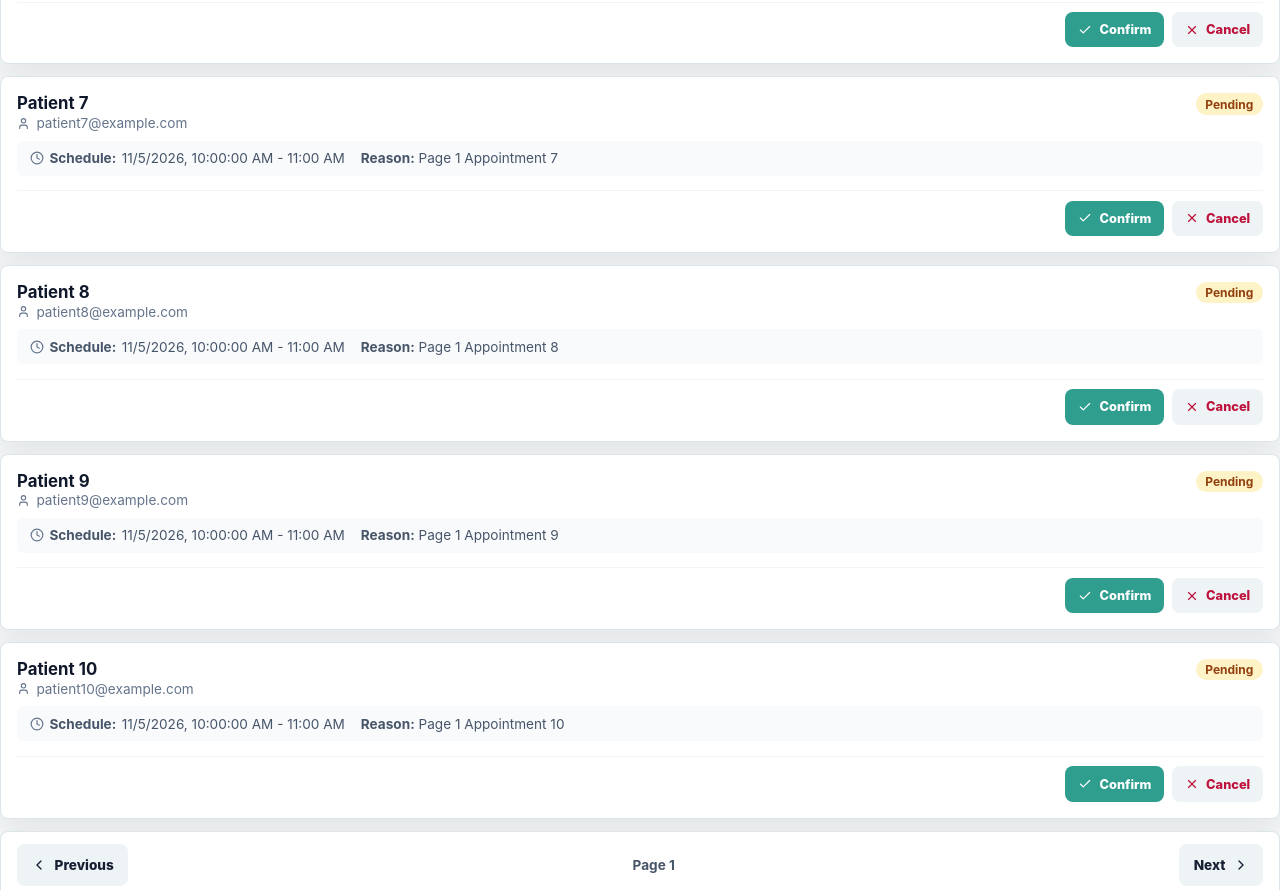
Test: Doctor Dashboard: Real Component Workflow Tests › navigates doctor appointments to page 2, cancels final item via rendered form, returns DRF 404 Invalid page, and recovers to page 1
The image size is (1280, 890).
(page scrolled)
Expected: the text "Page 1" is shown, 633,857 -> 675,873
Step 1. Click the button "Next" → (1221, 865), box 1179,844 -> 1263,886
(page scrolled)
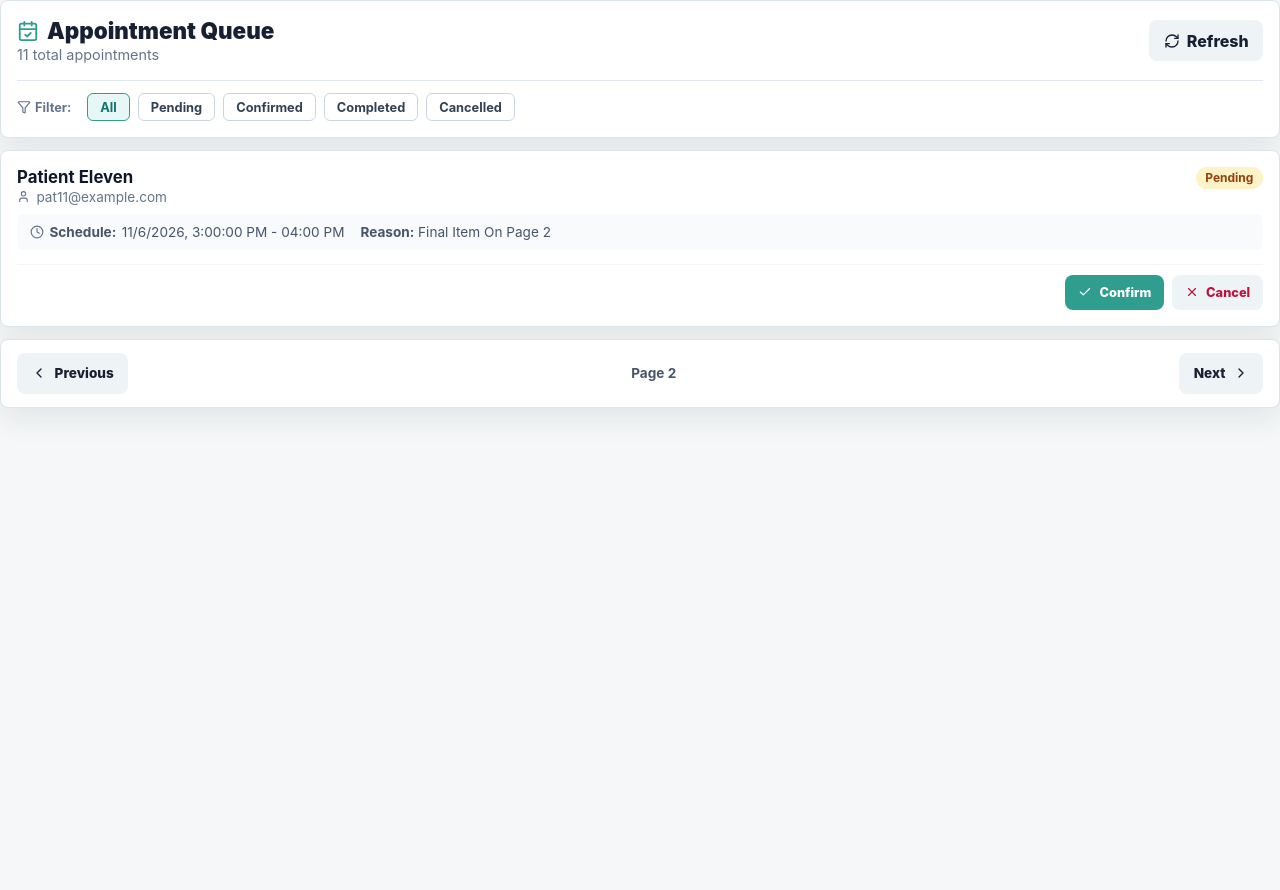
Expected: the text "Final Item On Page 2" is shown, 418,224 -> 551,240
Expected: the text "Page 2" is shown, 631,365 -> 676,381
# Remove final item through rendered Cancel form submission
Step 2. Click the button "Cancel" → (1218, 292), box 1172,274 -> 1263,310
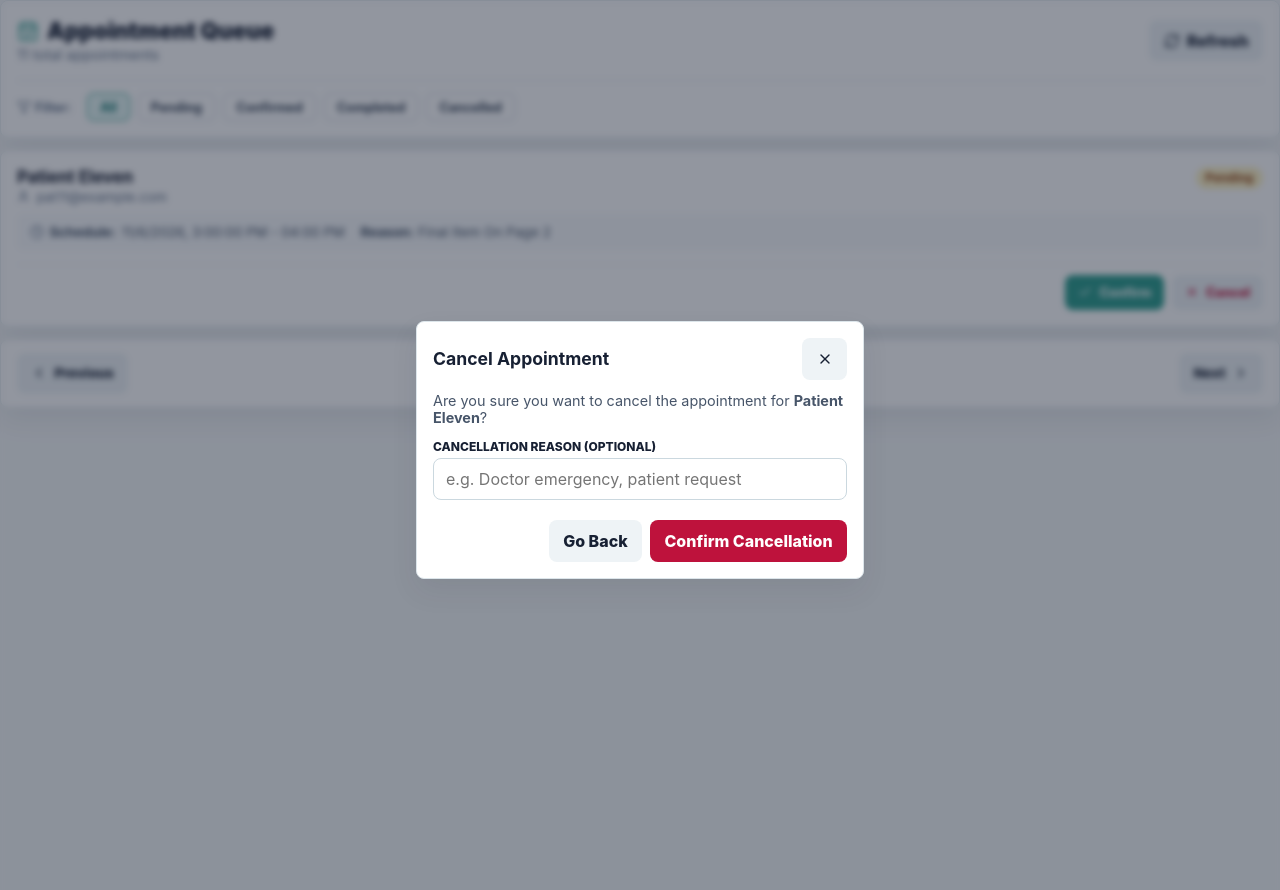
Expected: the text "Cancel Appointment" is shown, 433,348 -> 609,369
Step 3. Type "Cancelling final item on page 2" into the field with placeholder "e.g. Doctor emergency, patient request" → (640, 479), box 433,458 -> 847,500
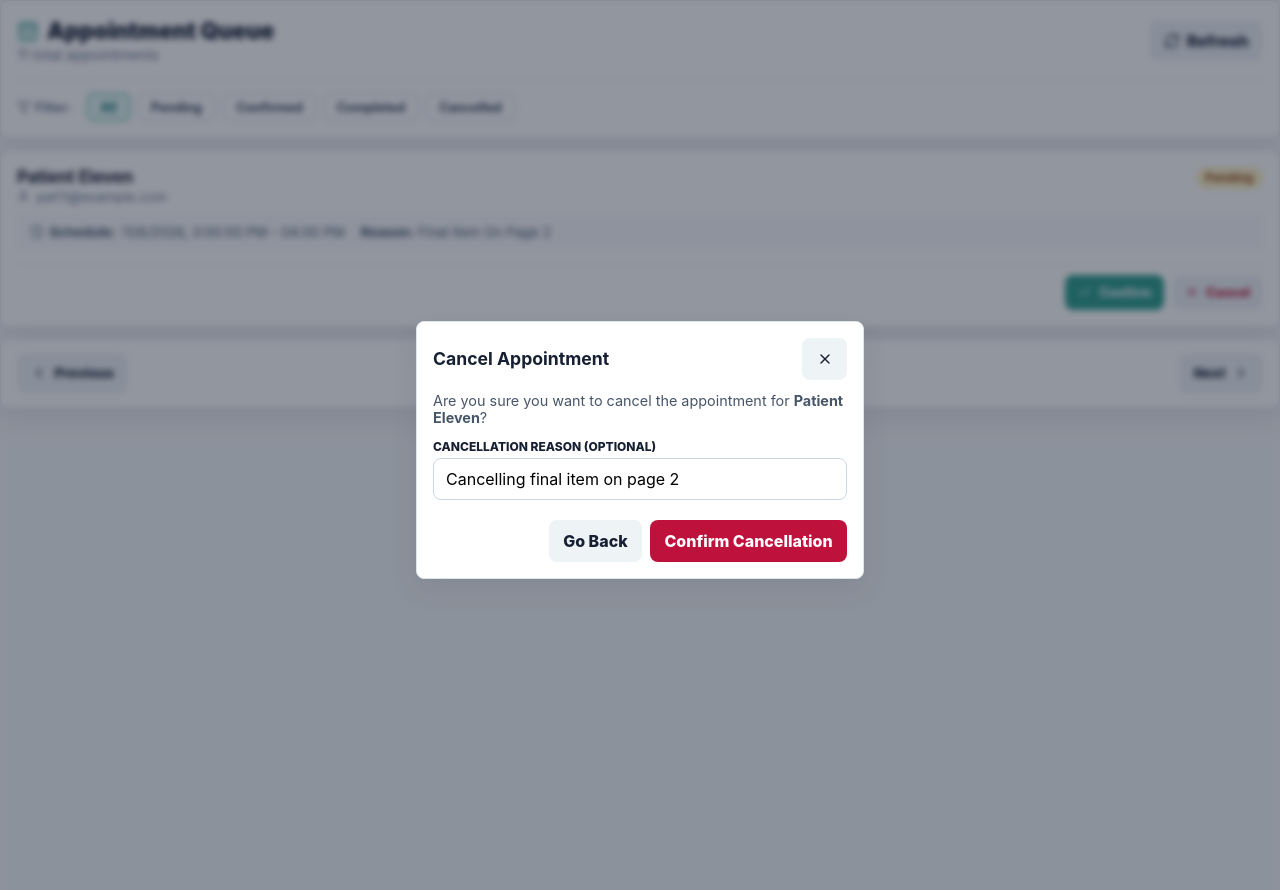
Step 4. Click the button "Confirm Cancellation" → (749, 541), box 650,520 -> 847,562
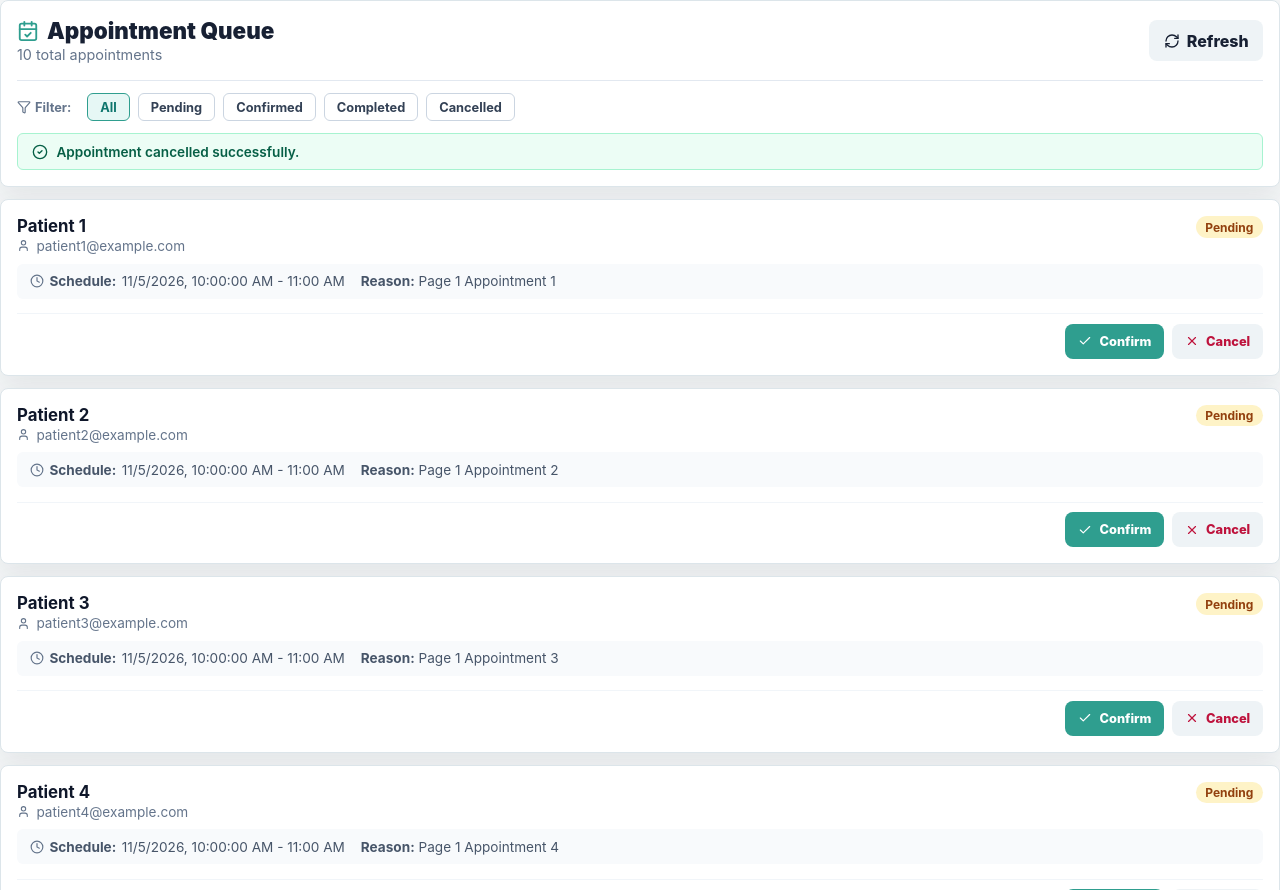
Expected: the text "Page 1 Appointment 1" is shown, 418,273 -> 556,289
Expected: the text "10 total appointments" is shown, 17,46 -> 162,63
Expected: the text "Final Item On Page 2" is gone
